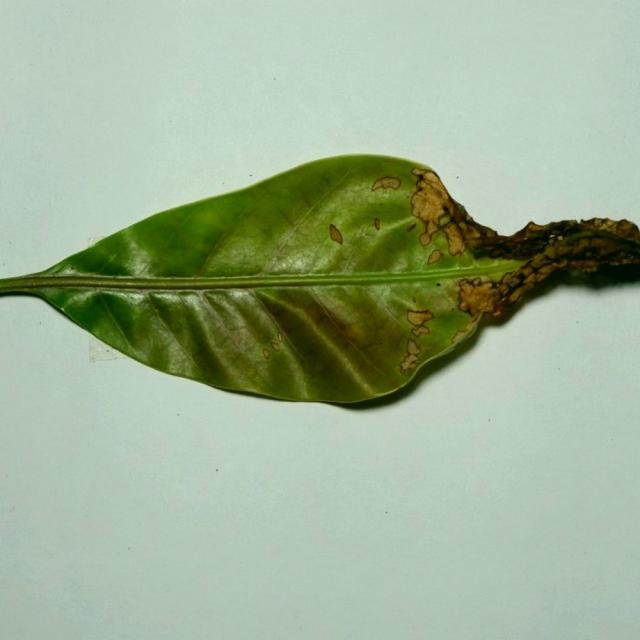Anthracnose: (470, 227, 549, 255), (414, 195, 451, 253), (407, 280, 461, 319), (459, 277, 505, 316), (502, 268, 548, 304), (582, 217, 640, 244), (405, 307, 434, 342), (415, 169, 448, 195), (466, 216, 498, 240), (450, 317, 478, 344), (370, 175, 400, 192), (399, 350, 421, 373), (524, 221, 551, 233), (329, 224, 343, 245), (523, 263, 544, 276), (411, 167, 428, 178), (580, 264, 598, 273), (468, 277, 482, 287), (271, 340, 281, 351), (262, 348, 271, 360), (374, 218, 381, 231), (407, 222, 416, 232), (277, 332, 283, 342)
Mango: (0, 156, 639, 414)
